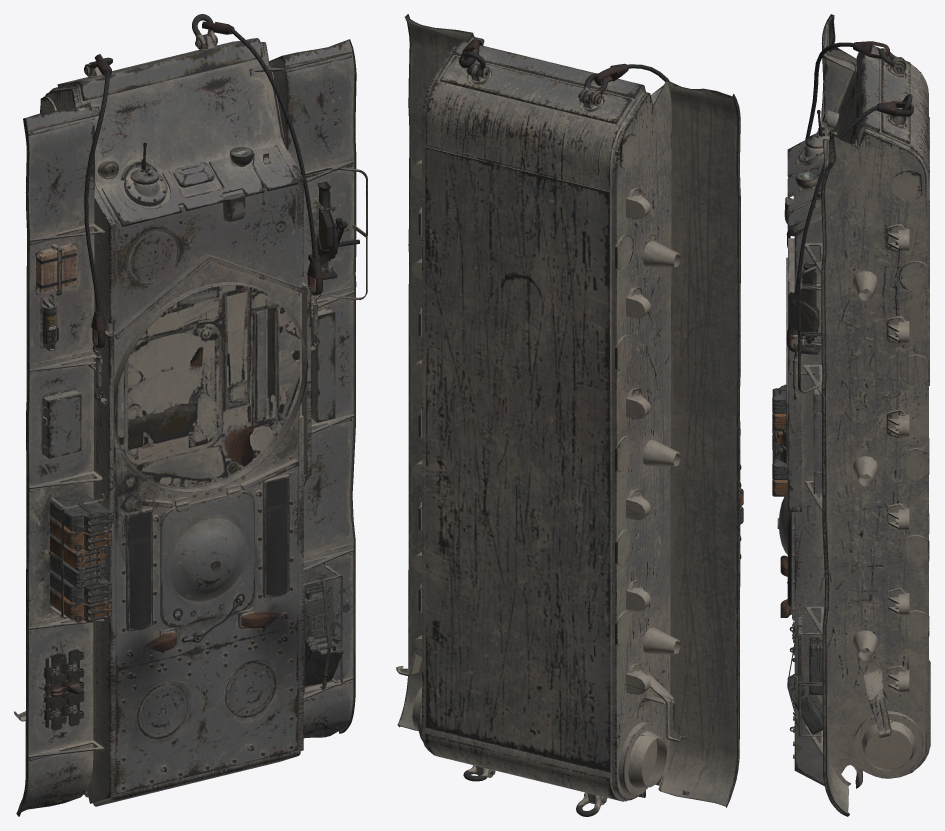
File: Hull.glb
3 views of the same model, side by side, from view 1: azimuth 30°, elevation 25°; view 2: azimuth 150°, elevation 25°; view 3: azimuth 270°, elevation 25° (orthographic). The views are drawn at different scales.
Parts seen in each view (by area): view 1: set_0_group_0; view 2: set_0_group_0; view 3: set_0_group_0.
Boxes of the visible parts, x1,y1,x2,y2 form: set_0_group_0: (14, 14, 367, 816); set_0_group_0: (396, 14, 743, 816); set_0_group_0: (772, 14, 930, 816).
Bounding box in the file's own units: 3.17 × 6.76 × 1.42.
1 material, 1 textured.
